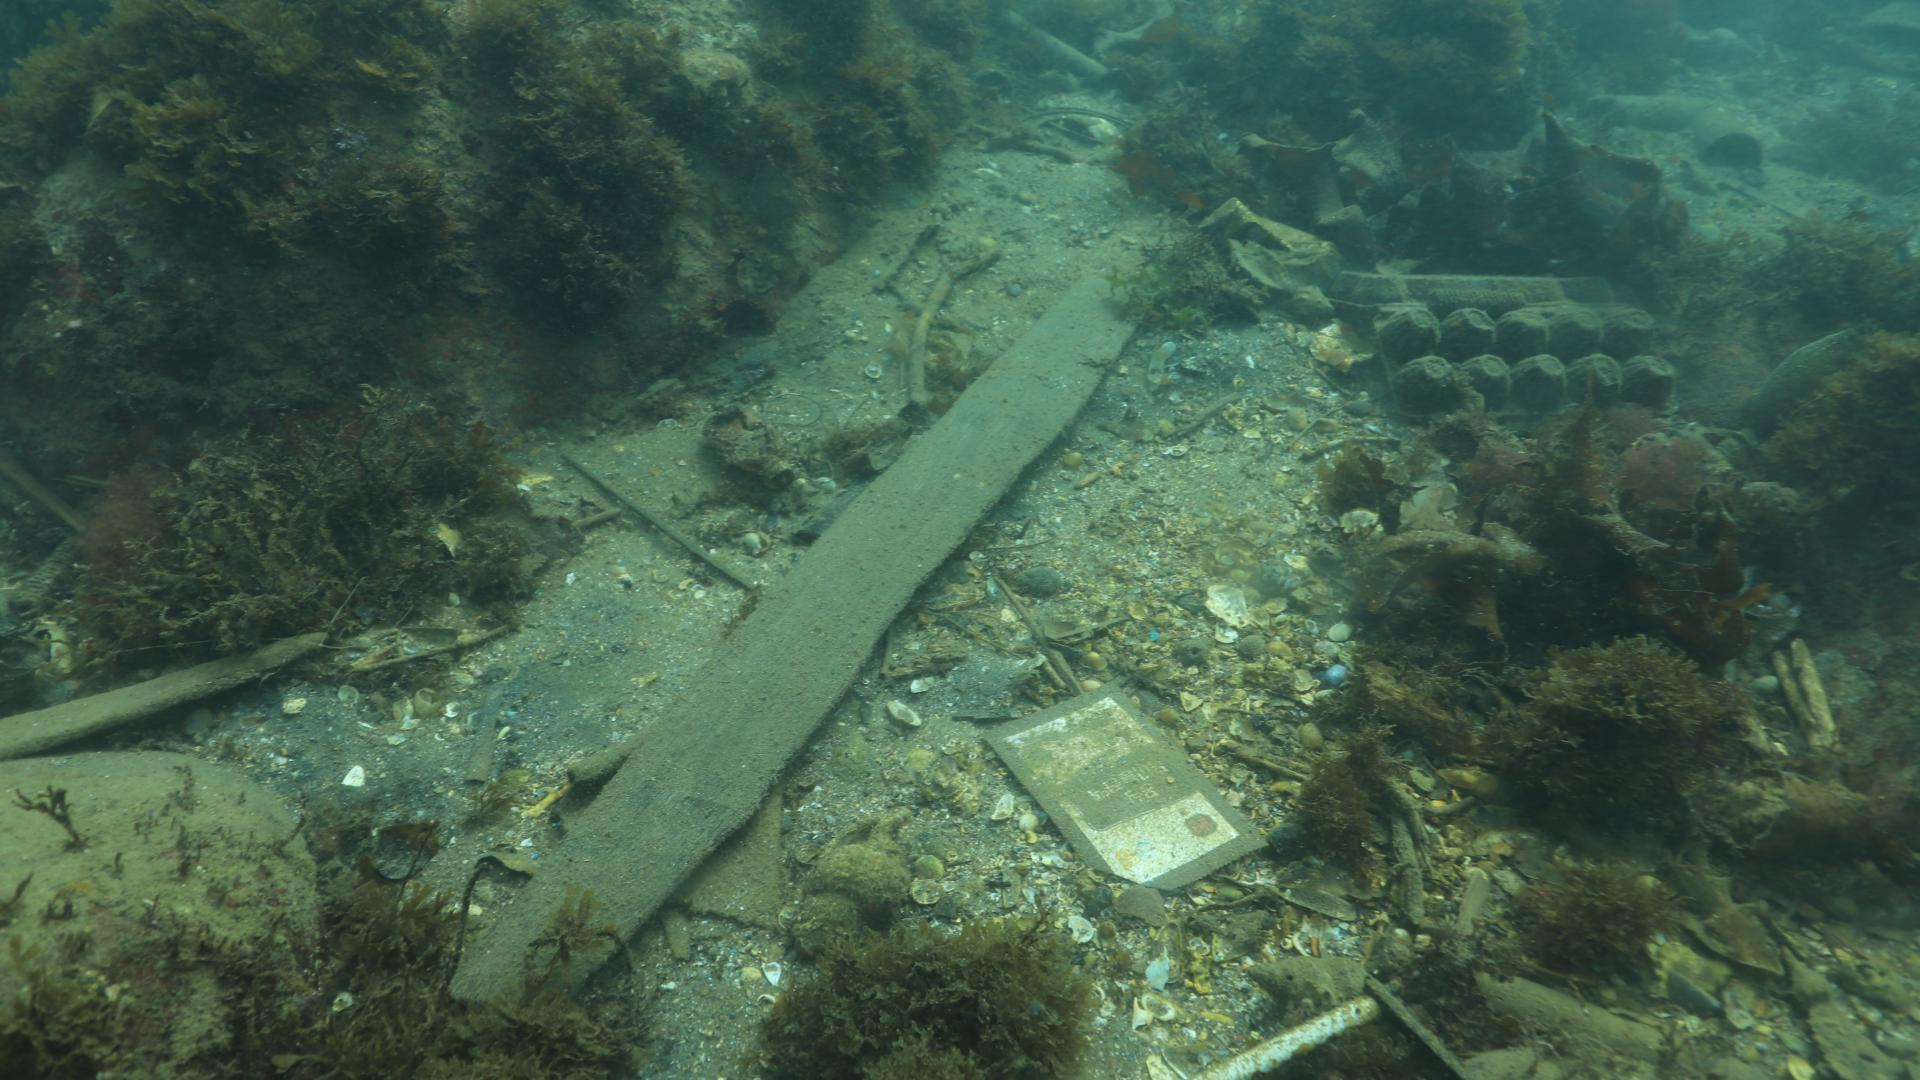wood: (446, 225, 1171, 1025)
